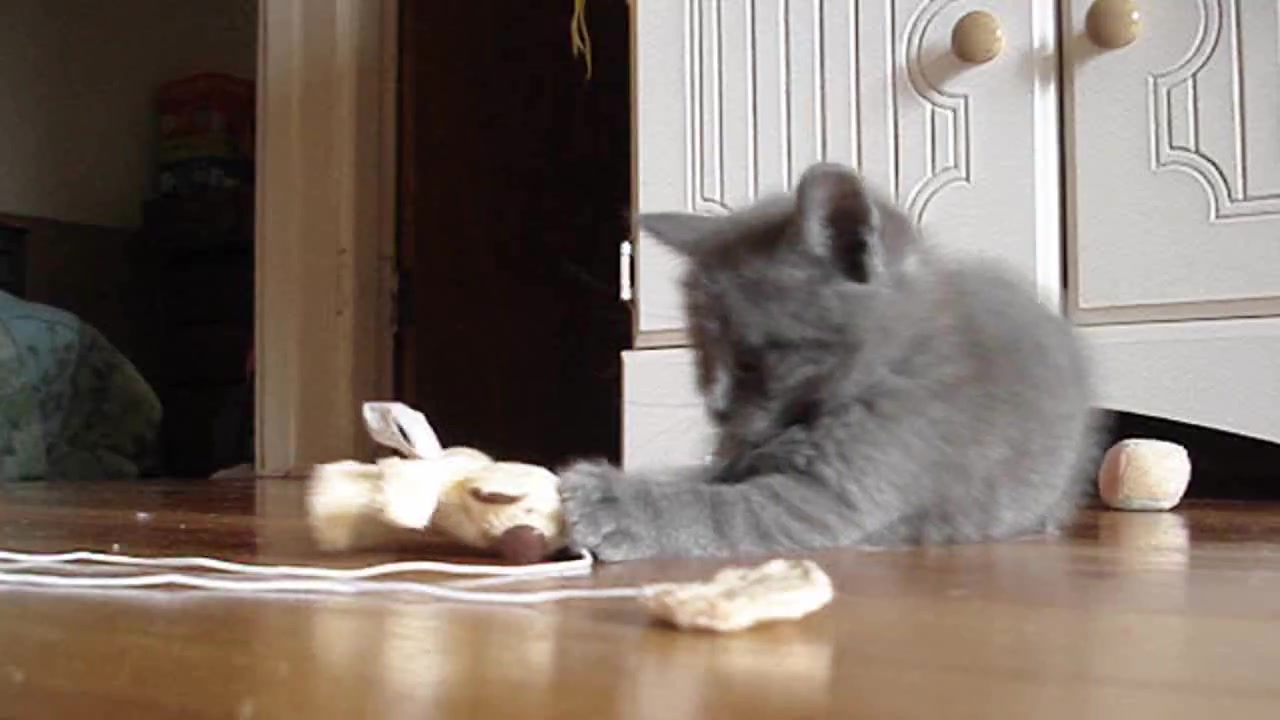cat: (552, 163, 1107, 567)
